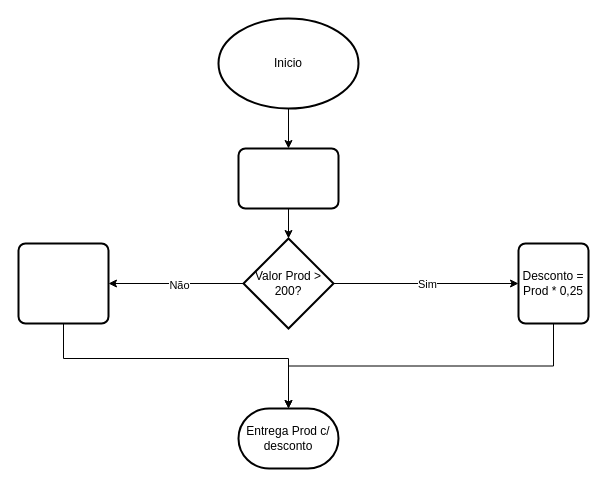
This 606x486 diagram has some shape labels left out. The centre of each missing label's shape, as x and y in pixels:
"Desconto = Prod * 0,05" goes at [63,283].
"Receba o valor do produto digitado" goes at [288,178].
